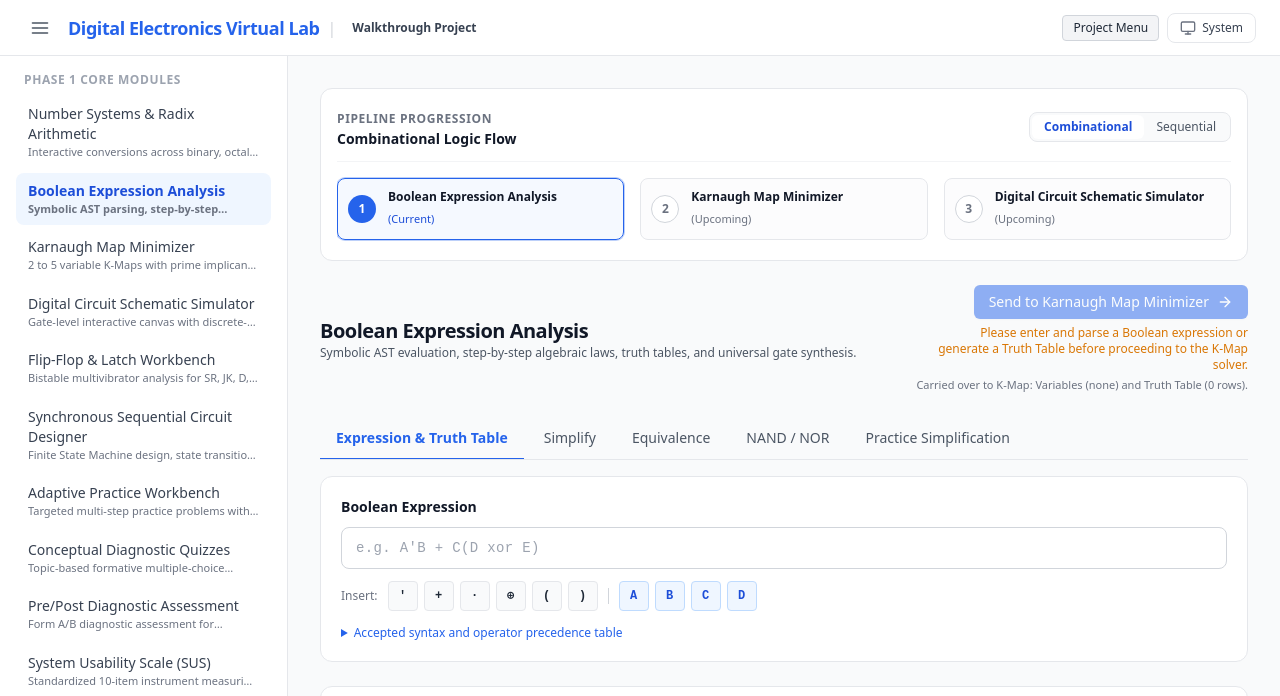
Test case: Stage 4C Walkthrough Verification › completes the entire end-to-end walkthrough sequence
Type "A'B + C(D xor E)" into the field labelled "Boolean Expression" at {"x": 784, "y": 548}, box [341,526,1227,568]
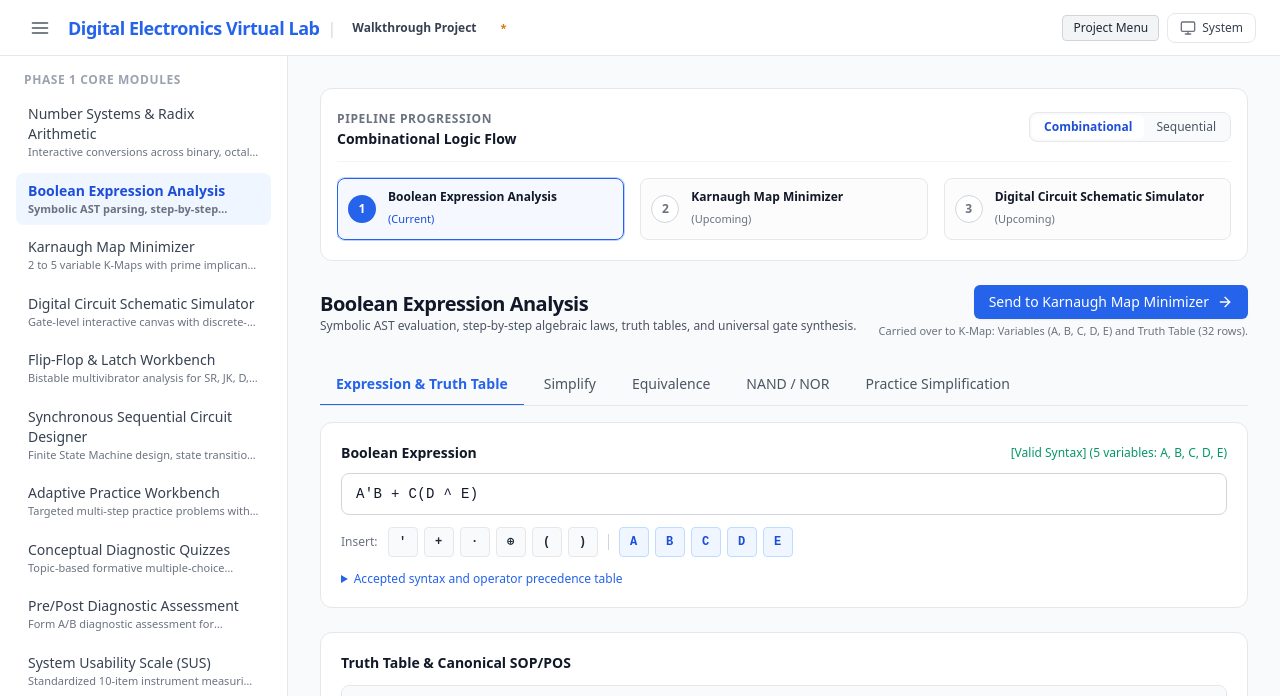
Result: the text "[Valid Syntax] (5 variables: A, B, C, D, E)" is shown at [1011,444,1227,460]
Simplify tab
Click the tab "Simplify" at {"x": 570, "y": 384}, box [528,364,612,404]
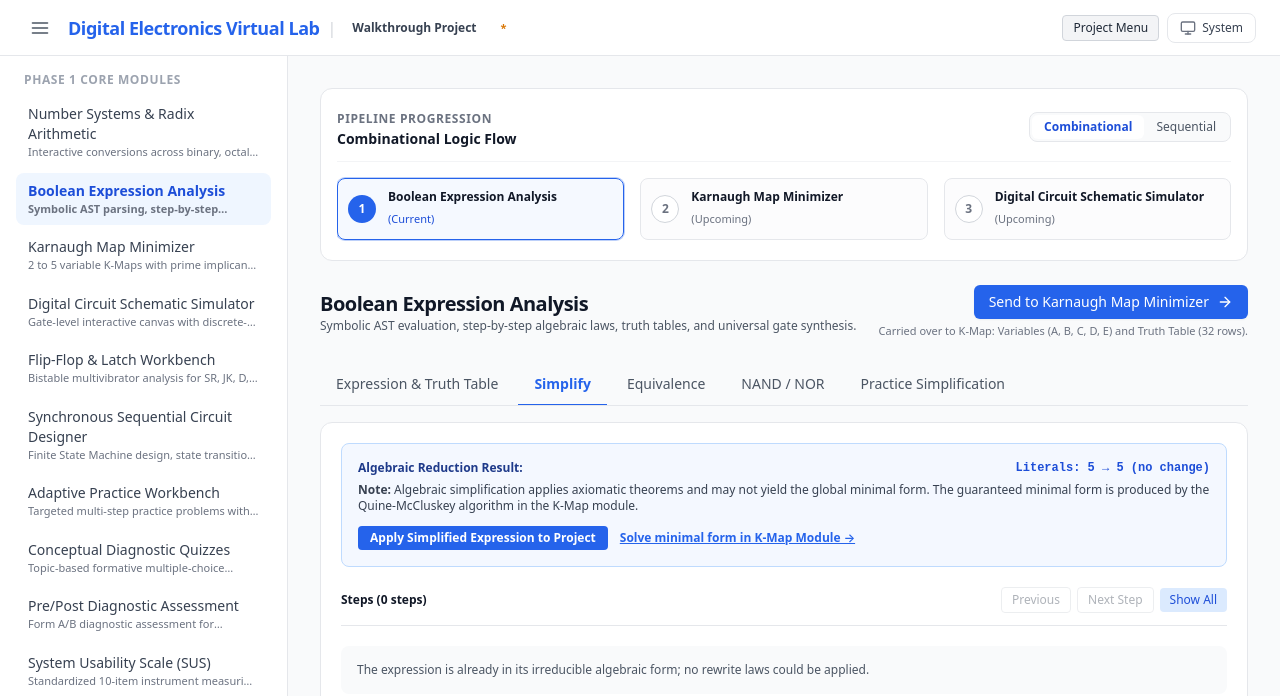
Result: the text "Algebraic Reduction Result:" is shown at [358,460,523,476]
Equivalence tab
Click the tab "Equivalence" at {"x": 666, "y": 384}, box [611,364,721,404]
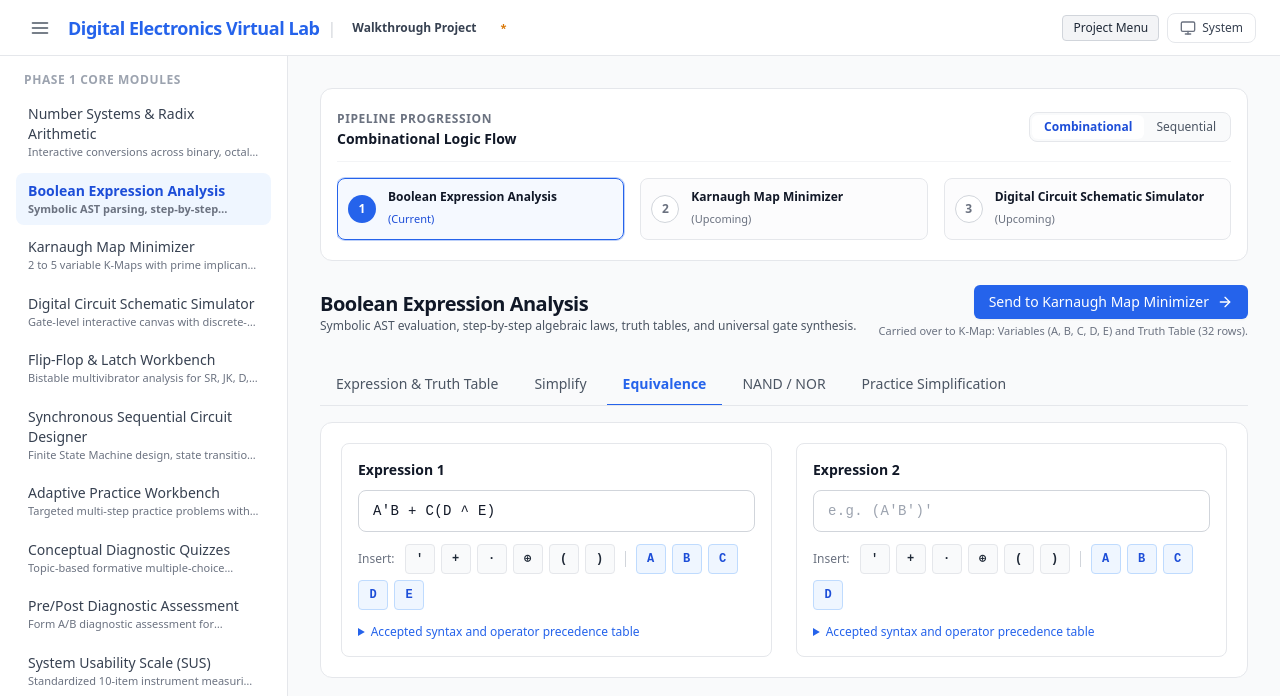
Type "A'B + C(D xor E)" into the field labelled "Expression 2" at {"x": 1012, "y": 510}, box [813,490,1210,532]
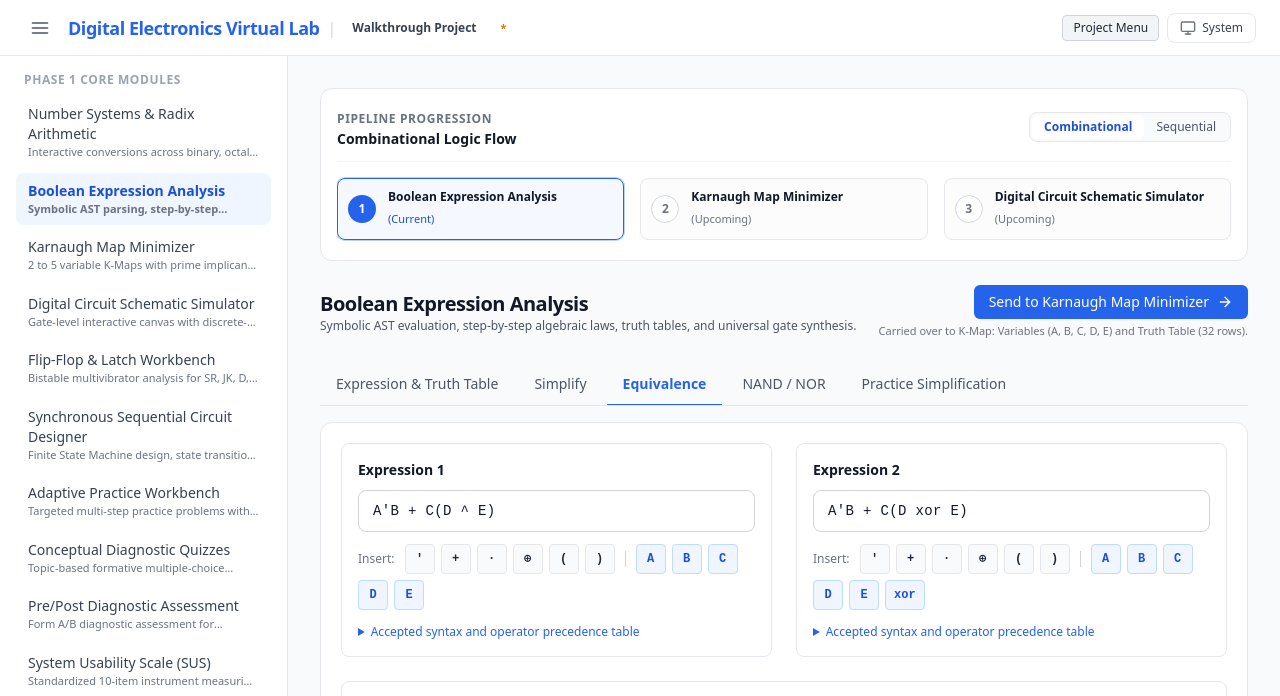
Universal NAND / NOR tab
Click the tab "NAND / NOR" at {"x": 784, "y": 384}, box [726,364,842,404]
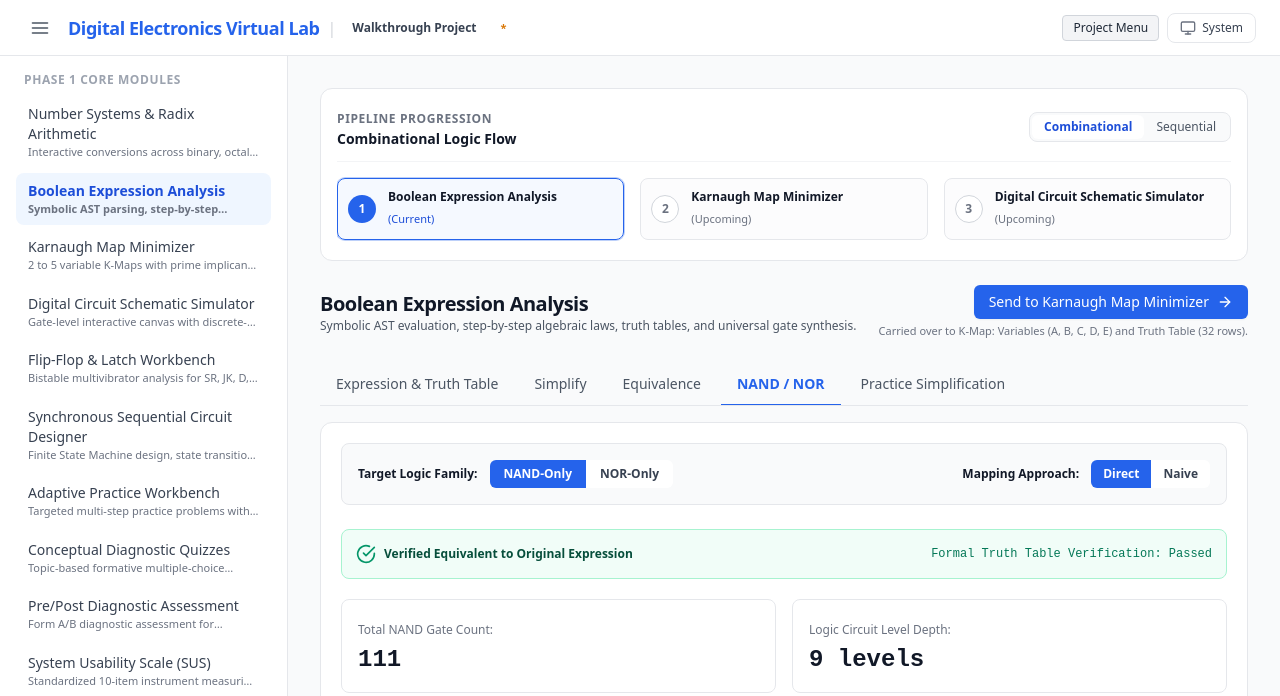
Result: the text "Verified Equivalent to Original Expression" is shown at [384,546,633,562]
Result: the text "Total NAND Gate Count:" is shown at [358,620,493,638]
Result: the text "Logic Circuit Level Depth:" is shown at [809,620,951,638]
Click the button "Send to Karnaugh Map Minimizer" at {"x": 1111, "y": 302}, box [974,285,1248,319]
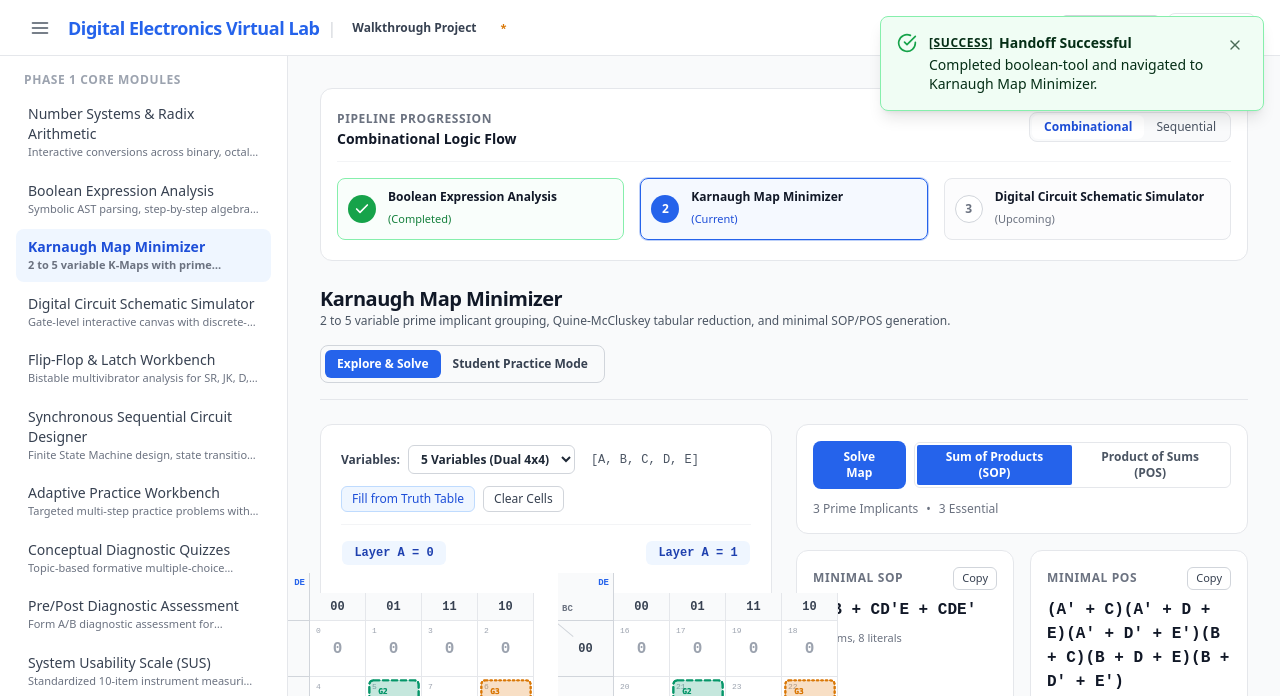
Result: the heading "Karnaugh Map Minimizer" is shown at [320,285,562,312]
